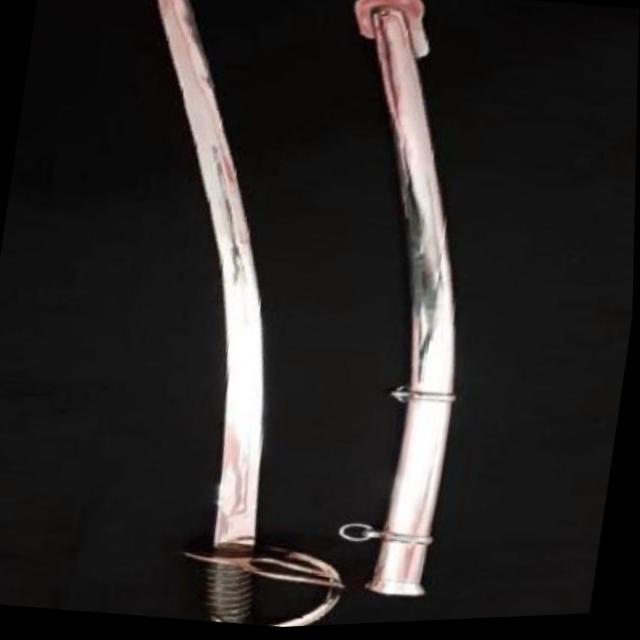weapon: (59, 0, 428, 638), (270, 0, 512, 607)
